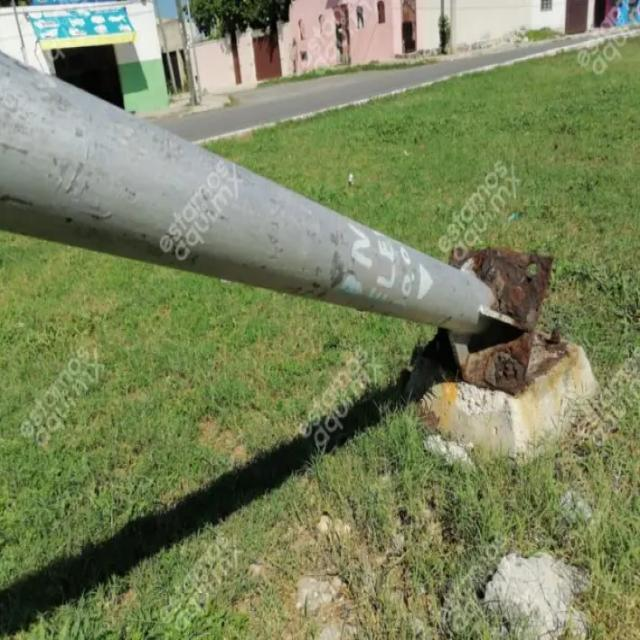Inclined Pole: (0, 46, 601, 478)
